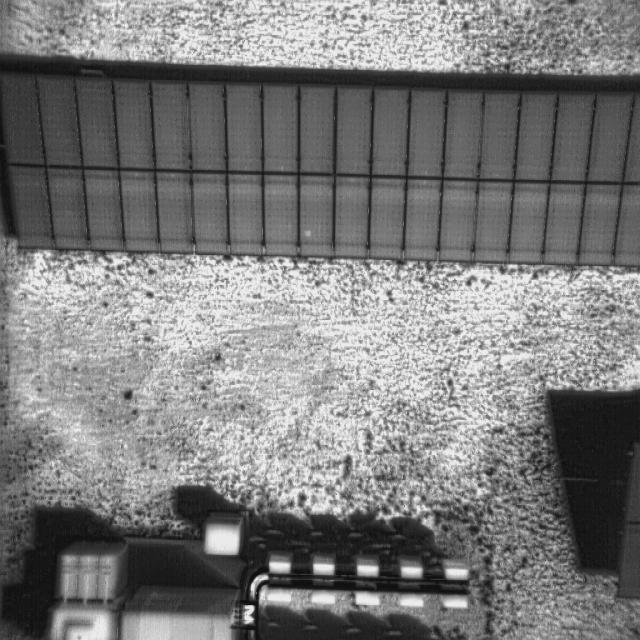hotspot: (304, 228, 312, 238)
